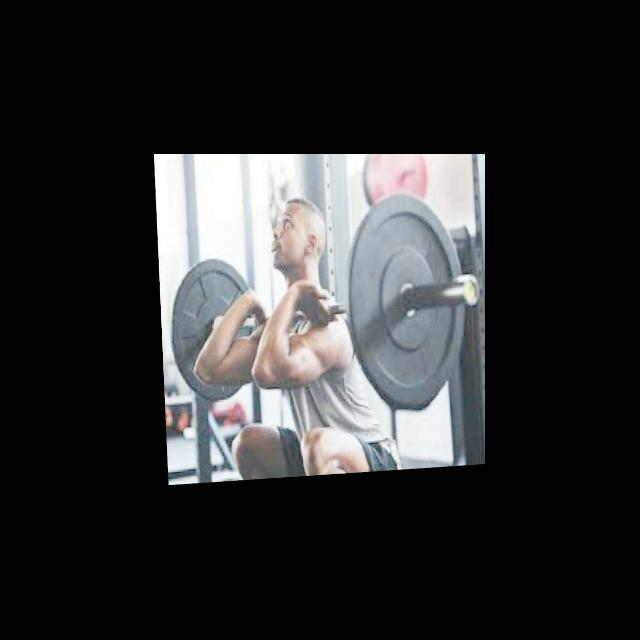barbell: (341, 191, 485, 420)
